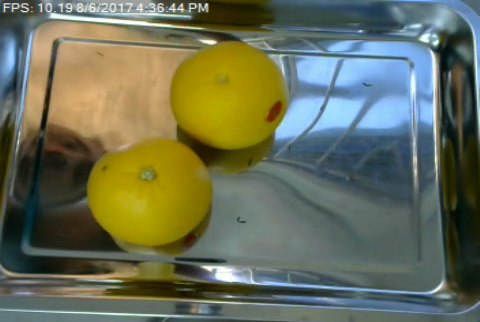Orange: (86, 136, 212, 244), (168, 40, 288, 149)
